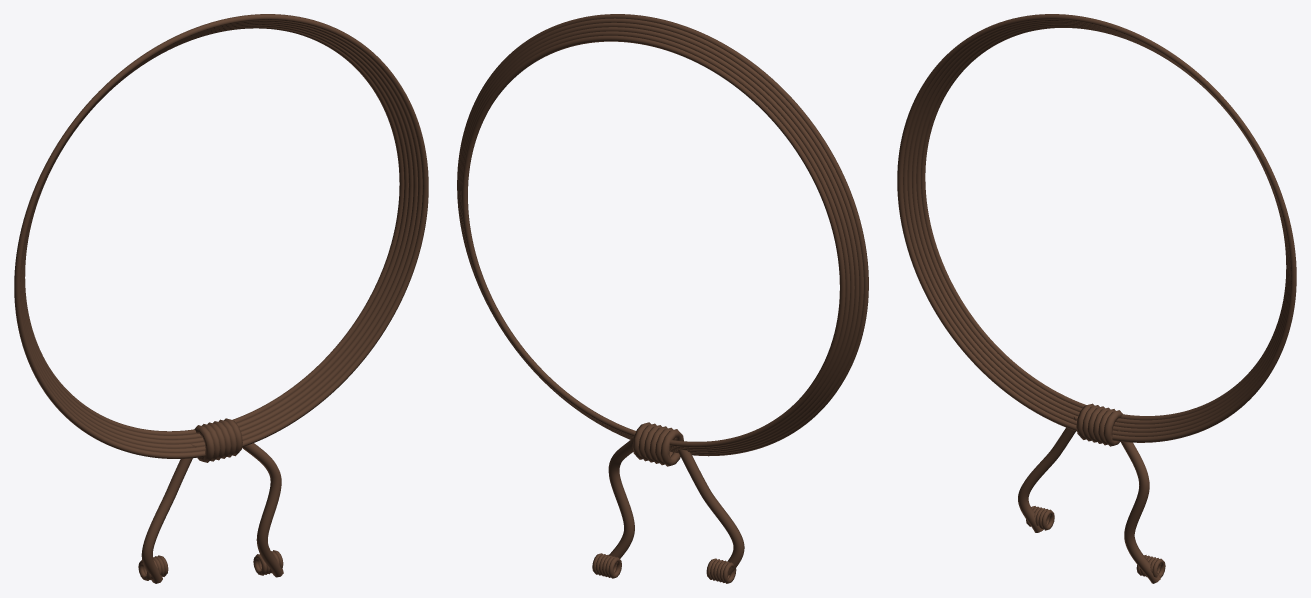
File: brown-strands.glb
The picture shows the model from 3 angles, left to right: view 1: azimuth 30°, elevation 25°; view 2: azimuth 150°, elevation 25°; view 3: azimuth 330°, elevation 25°; orthographic projection. The views are drawn at different scales.
Parts seen in each view (by area): view 1: brown-strands; view 2: brown-strands; view 3: brown-strands.
Part boxes in pixels (x1,y1,x2,y2): brown-strands: (14,14,428,583); brown-strands: (457,14,868,583); brown-strands: (897,14,1296,583).
Bounding box in the file's own units: 2.09 × 2.76 × 0.1846.
